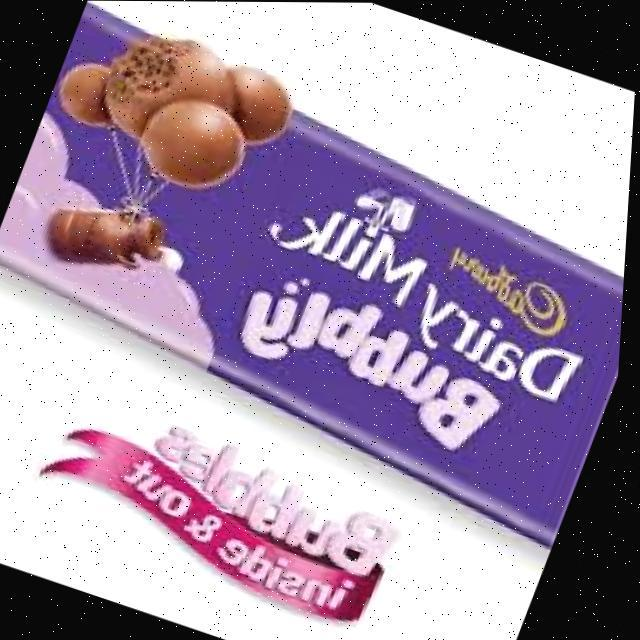cadbury_chocolate: (85, 21, 637, 566)
